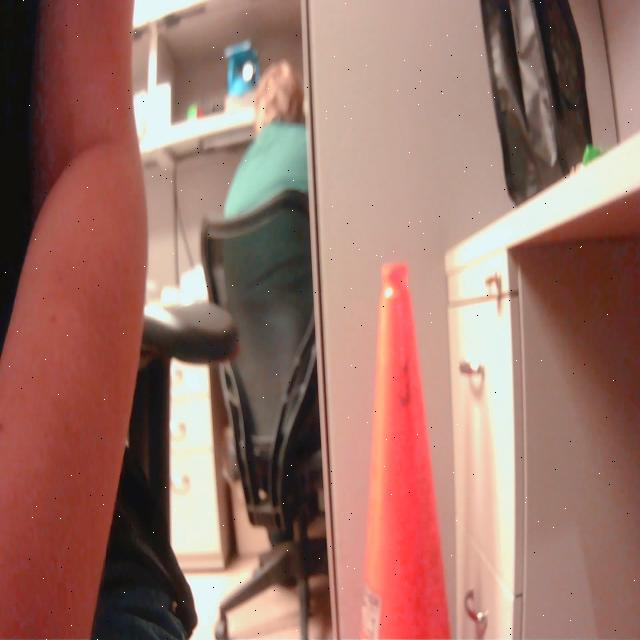traffic cone: (351, 258, 469, 640)
